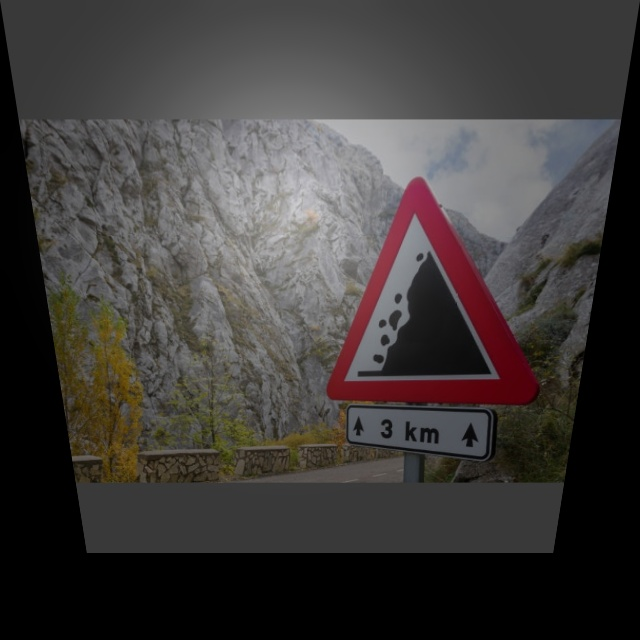Falling_Rocks: (321, 179, 561, 404)
